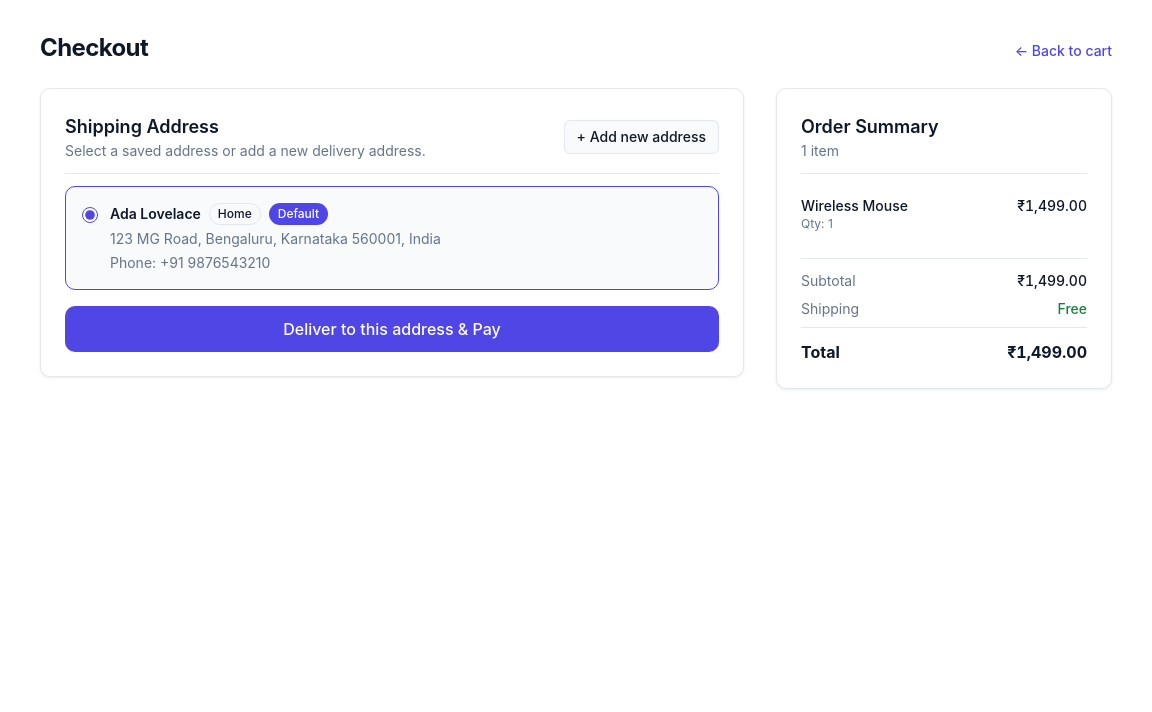
Test case: CheckoutPage › lets user pick a saved default address or switch to adding a new address
Expected: the text "Default" is shown, [269,203,328,225]
Expected: the text "Home" is shown, [209,203,261,225]
Click the button "+ Add new address". click: x=641, y=137
box: [564,120,719,154]
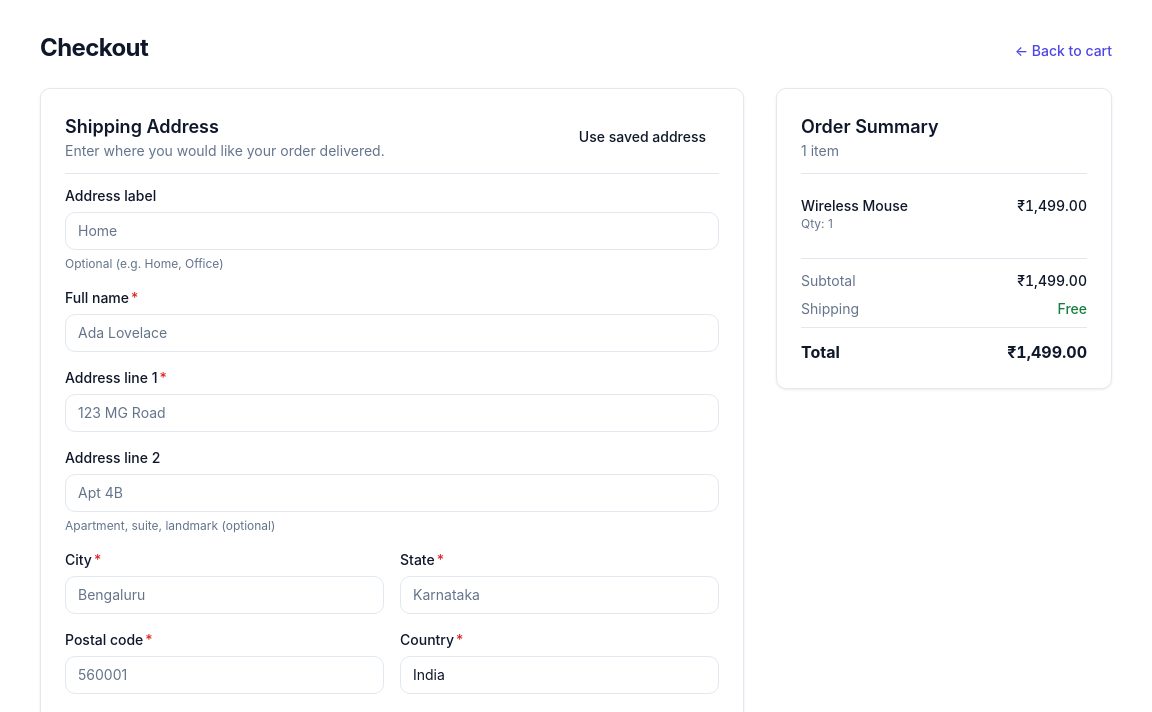
Expected: the button "Use saved address" is shown, [566,120,719,154]
